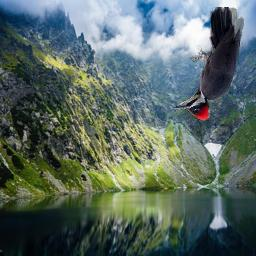Woodpecker: (172, 7, 245, 121)
